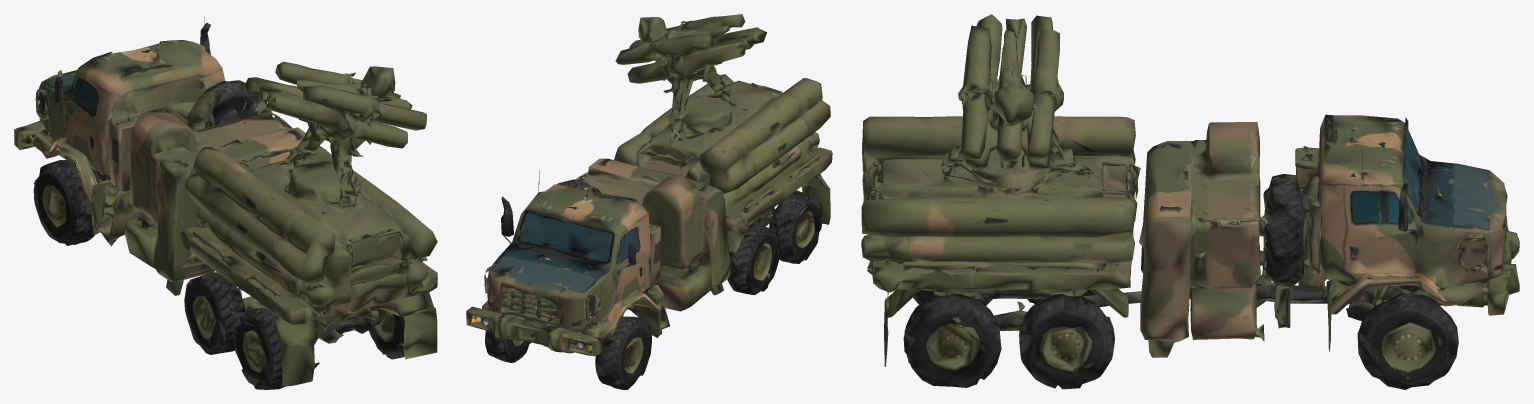
Rendered from sam-launcher.glb.
The picture shows the model from 3 angles, left to right: view 1: azimuth 30°, elevation 25°; view 2: azimuth 150°, elevation 25°; view 3: azimuth 270°, elevation 25°; orthographic projection. The views are drawn at different scales.
Size of the model in its own units: 2.75 by 4 by 7.5.
Materials: 1 (1 with a texture image).
